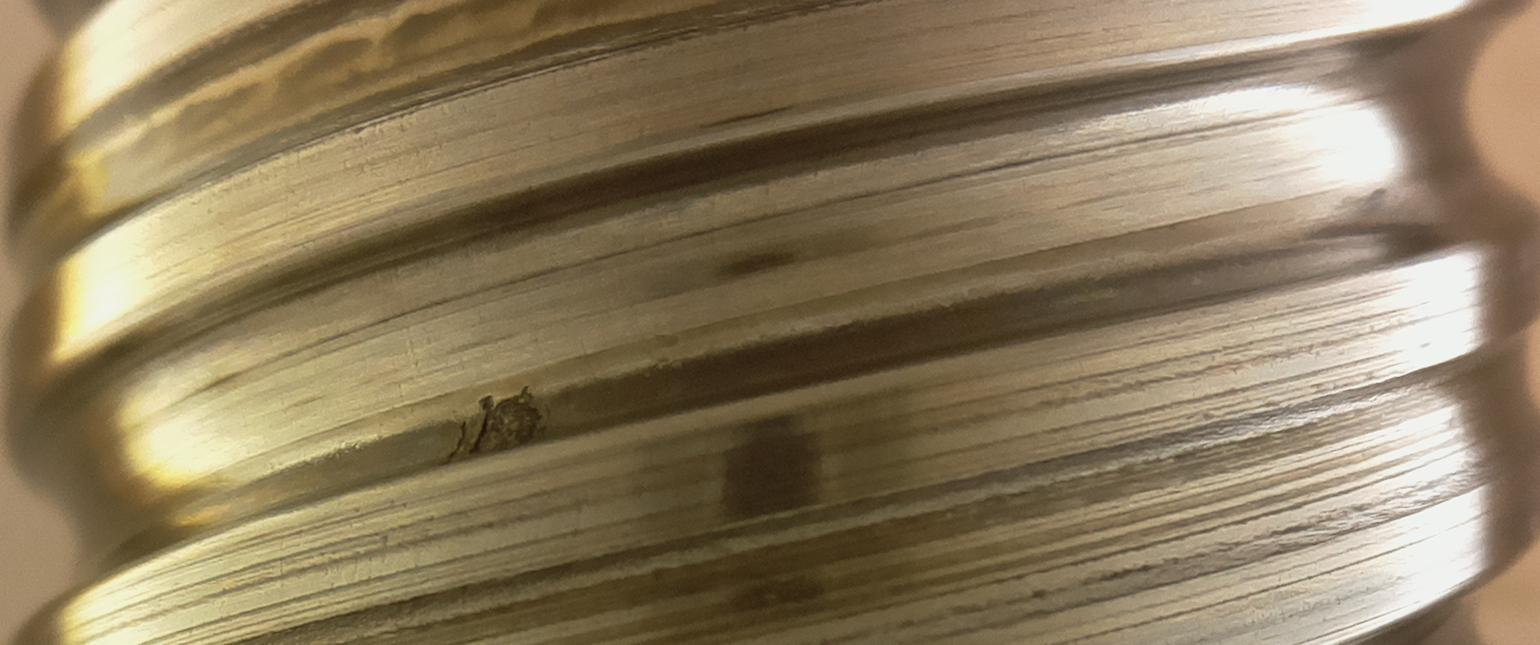pitting: (448, 386, 543, 461)
